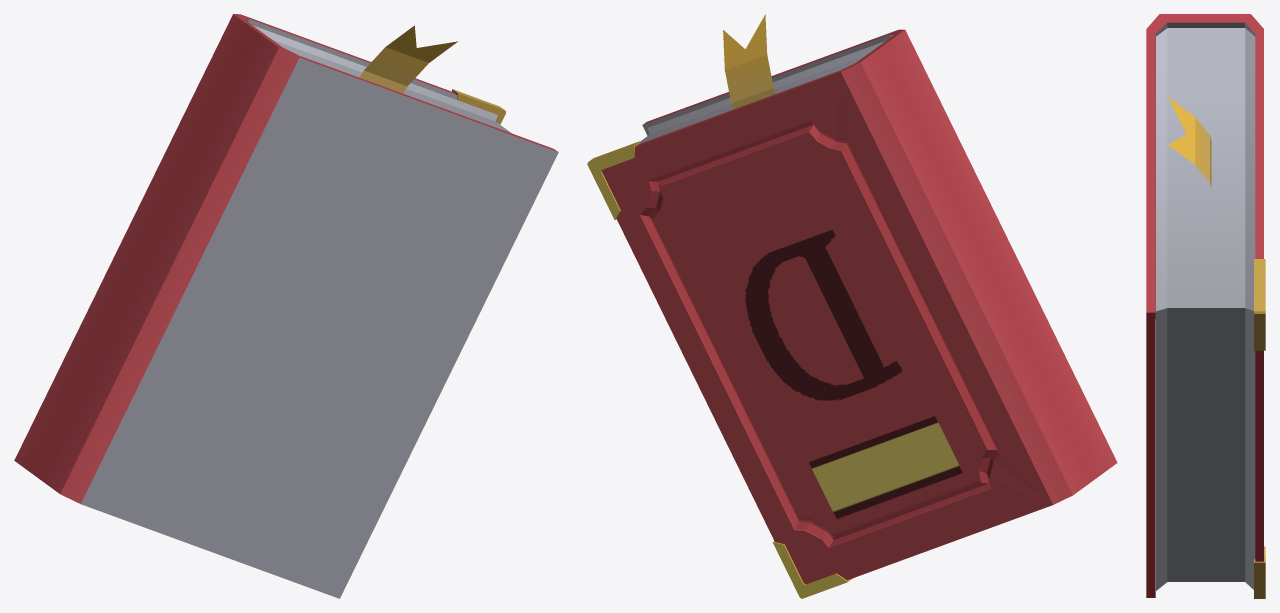
File: Below_Book.FBX
3 views of the same model, side by side, from view 1: azimuth 30°, elevation 25°; view 2: azimuth 150°, elevation 25°; view 3: azimuth 270°, elevation 25° (orthographic). The views are drawn at different scales.
Parts seen in each view (by area): view 1: Object016; view 2: Object016; view 3: Object016.
Boxes of the visible parts, x1,y1,x2,y2 form: Object016: (14, 14, 558, 598); Object016: (587, 14, 1117, 598); Object016: (1146, 14, 1265, 598).
Bounding box in the file's own units: 13.16 × 14.29 × 2.77.
Materials: 1 (1 with a texture image).
